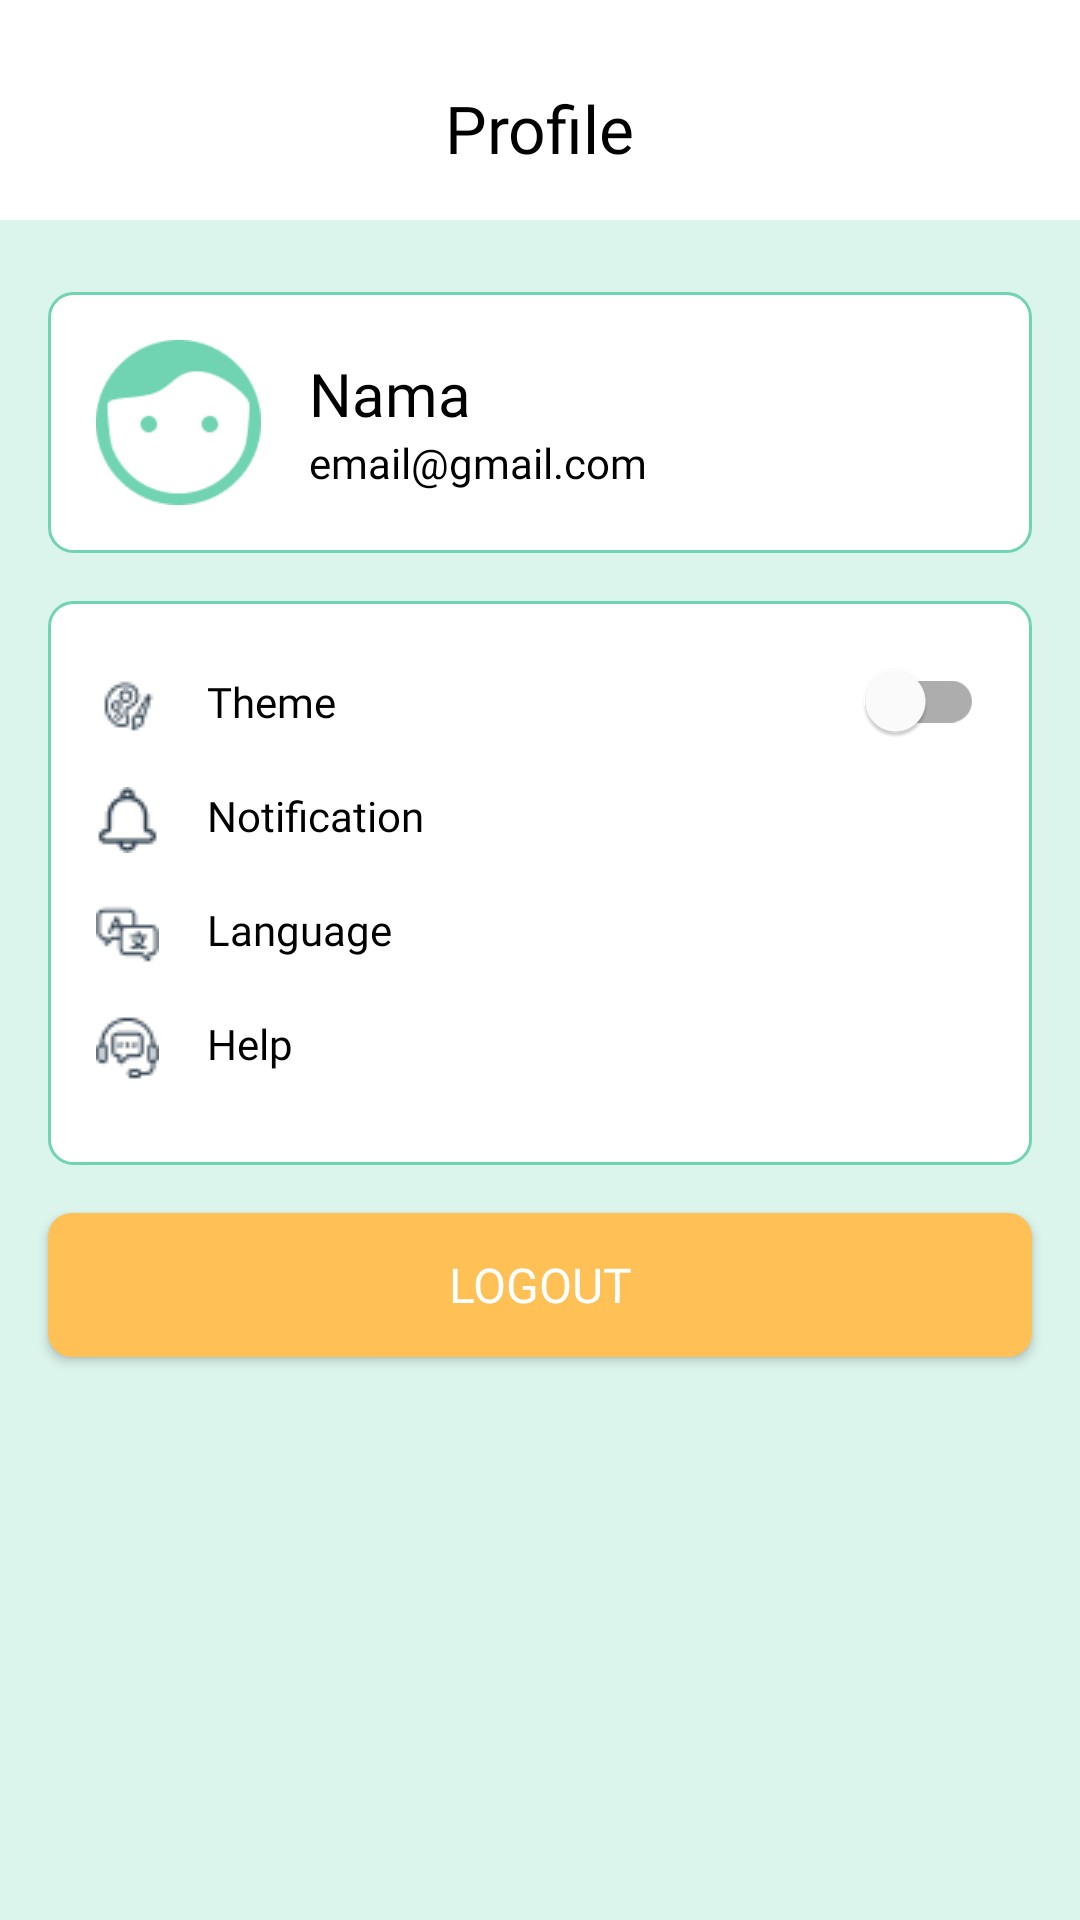

Icons on this 1080 × 1920 Android screen, each with its box as (x1, y1, x2, y2):
Profile Picture: (96, 340, 261, 505)
